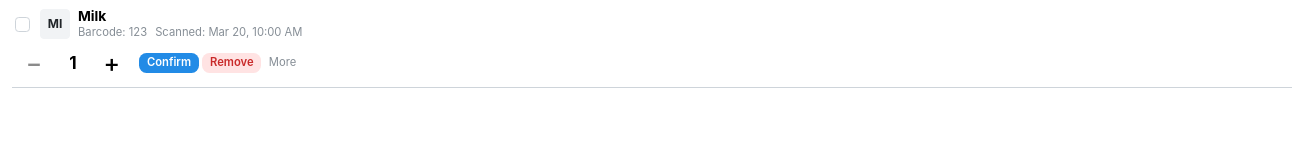
ScanEntryCard approve scan rename › shows fallback error message "Unable to confirm scan." when error is not an Error instance
Click the button "Confirm" at (169, 63), box [139,53,199,73]
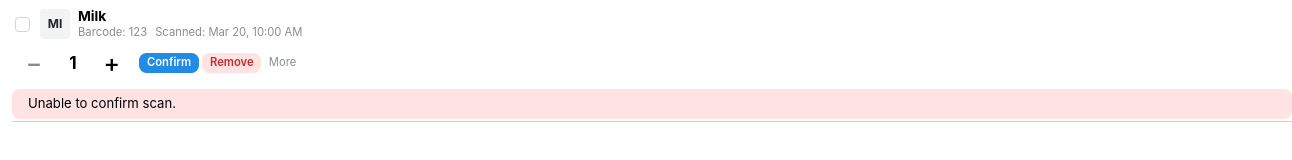
Check: the message "Unable to confirm scan." is shown, box [12,89,1291,118]
Check: the message reads "Unable to confirm scan.", box [28,96,176,112]
